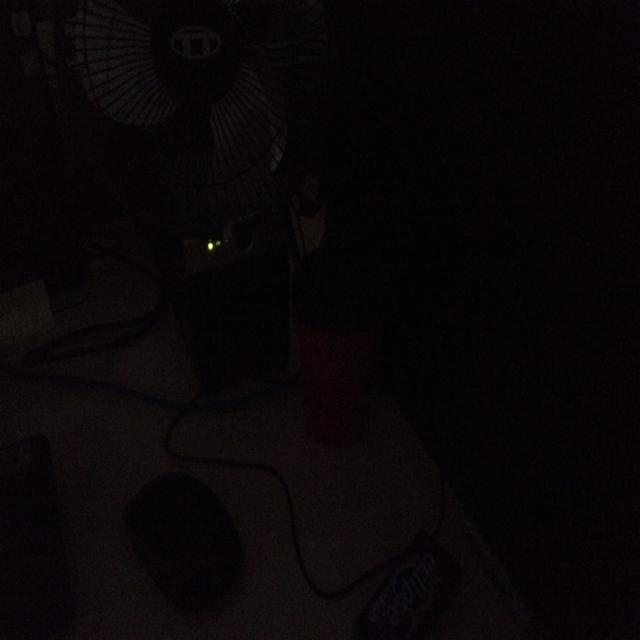Cup: (284, 248, 381, 433)
Table: (0, 214, 555, 640)
